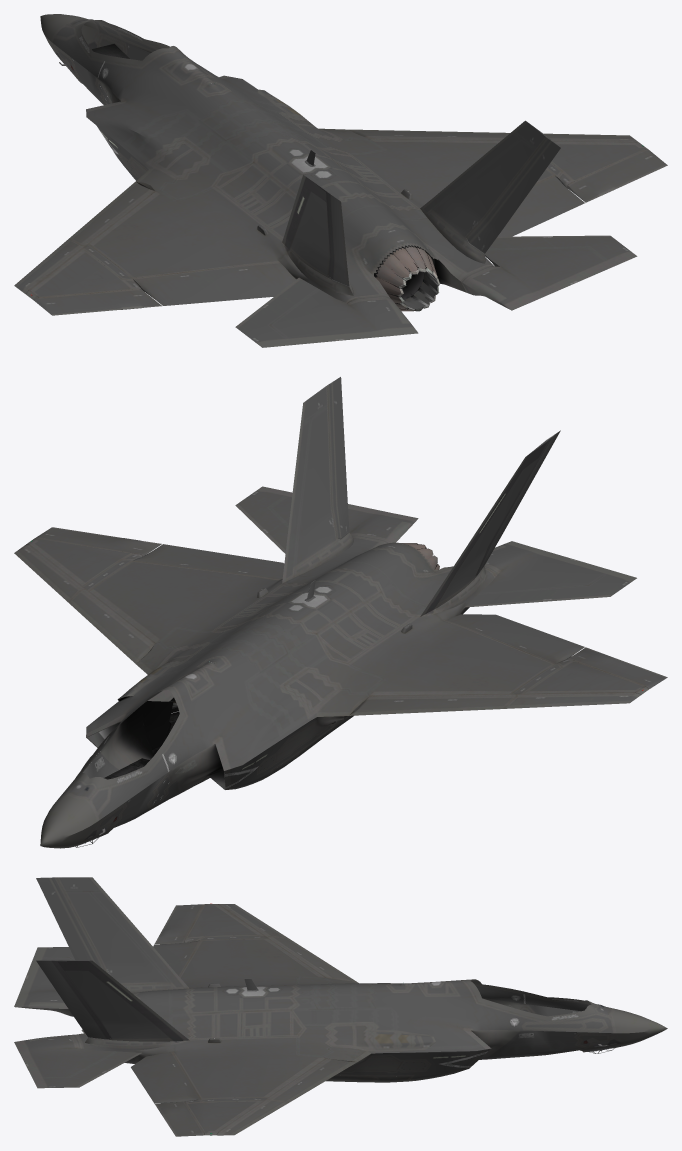
Rendered from f35_game.glb.
The picture shows the model from 3 angles, top to bottom: view 1: azimuth 30°, elevation 25°; view 2: azimuth 150°, elevation 25°; view 3: azimuth 270°, elevation 25°; orthographic projection. The views are drawn at different scales.
Visible parts, largest first — view 1: Airframe; view 2: Airframe; view 3: Airframe.
Part boxes in pixels (x1,y1,x2,y2): Airframe: (14,14,667,347); Airframe: (14,377,667,848); Airframe: (14,877,667,1136).
Size of the model in its own units: 7.53 by 2.29 by 9.
1 material, 1 textured.
